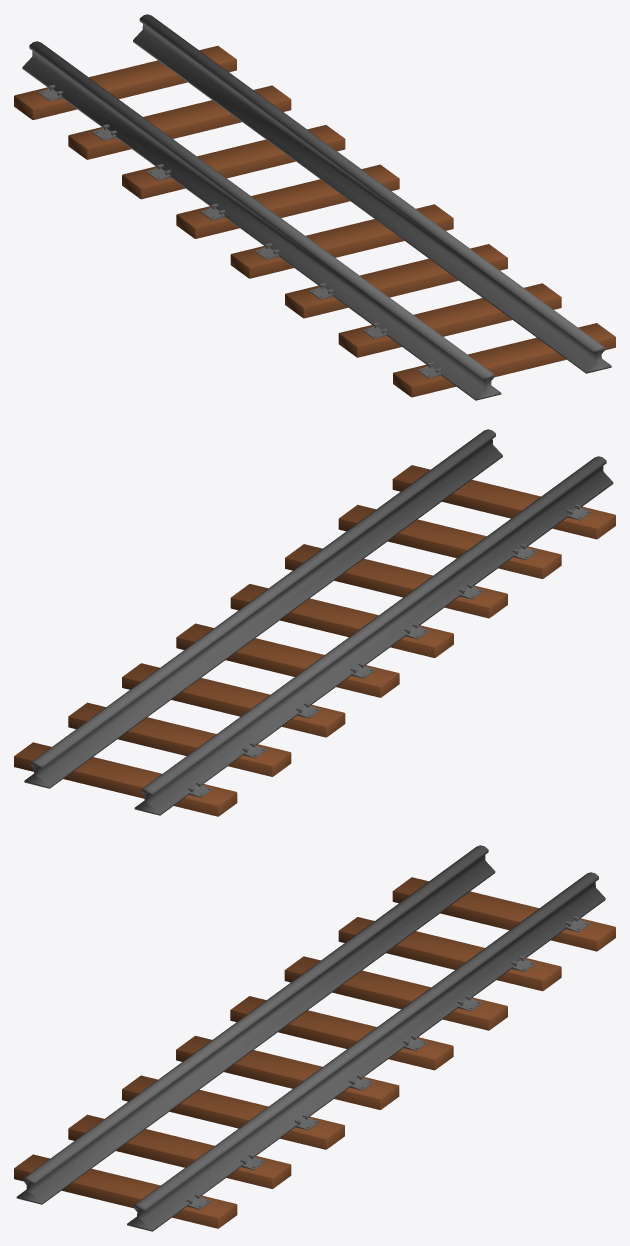
File: trilho_reto.fbx
3 renders of one model, top to bottom at view 1: azimuth 30°, elevation 25°; view 2: azimuth 150°, elevation 25°; view 3: azimuth 330°, elevation 25°, orthographic.
Visible parts, largest first — view 1: trilho_reto; view 2: trilho_reto; view 3: trilho_reto.
Part boxes in pixels (x1,y1,x2,y2): trilho_reto: [14, 14, 615, 400]; trilho_reto: [14, 429, 615, 816]; trilho_reto: [14, 845, 615, 1231].
Size of the model in its own units: 90.37 by 14.82 by 346.
